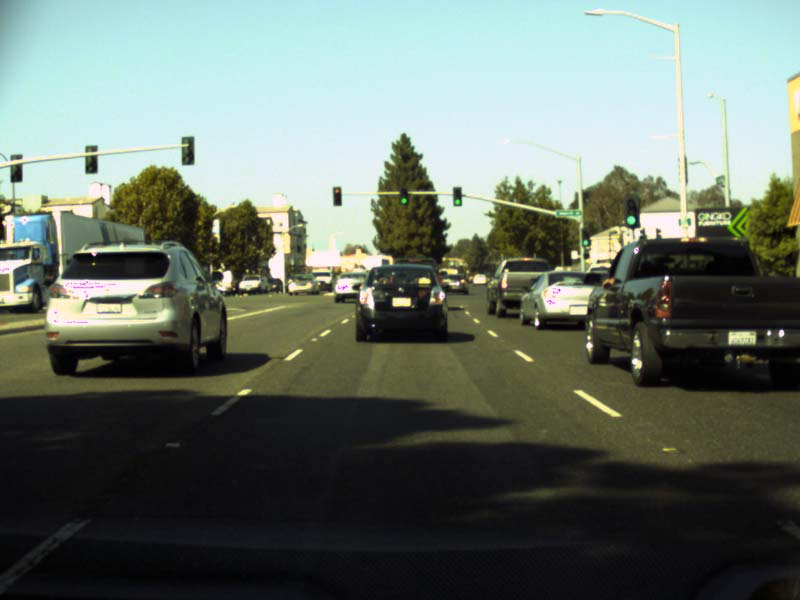Green: (623, 193, 640, 228), (581, 227, 591, 246), (452, 187, 461, 206), (400, 188, 408, 205)
Red: (332, 186, 342, 206)
